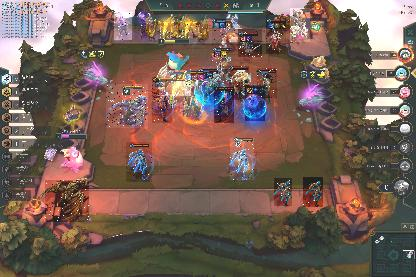1_idas: (150, 18, 178, 42), (176, 18, 204, 40)
1_jayce: (266, 12, 290, 34)
1_kaisa: (303, 177, 323, 207), (274, 178, 292, 206)
1_soraka: (226, 17, 238, 33)
1_terra: (106, 84, 148, 128), (45, 180, 89, 222)
1_yasuo: (245, 85, 265, 121), (114, 12, 132, 40), (134, 12, 150, 38)
2_idas: (159, 70, 191, 96)
2_jax: (200, 69, 220, 103)
2_jayce: (212, 49, 236, 85), (290, 8, 310, 42)
2_joy: (212, 18, 238, 48)
2_kaisa: (126, 142, 152, 182), (230, 138, 254, 180)
2_leesin: (214, 87, 234, 123)
2_nasus: (257, 68, 277, 98)
2_twitch: (238, 29, 262, 57)
2_volibear: (229, 66, 249, 100)
2_xayah: (266, 20, 286, 54)
3_karma: (184, 72, 204, 118)
3_sett: (152, 77, 172, 123)
